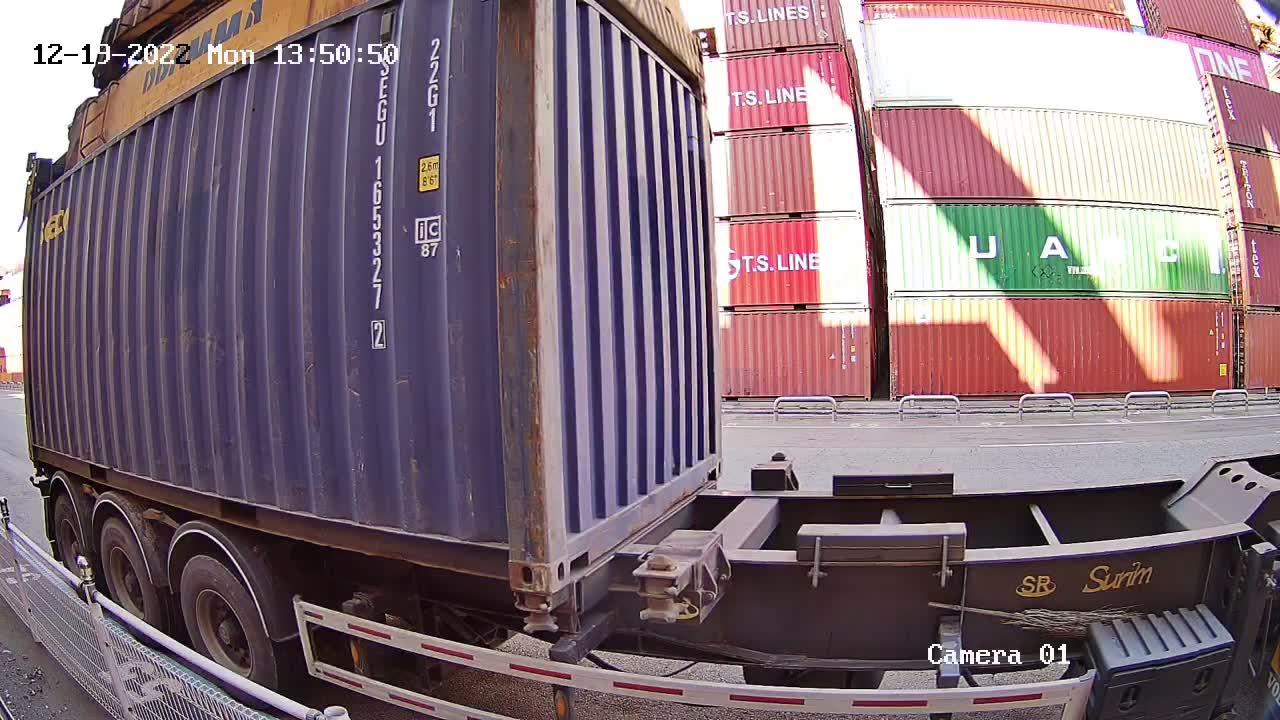Chassis: (573, 486, 715, 625)
Cone: (511, 585, 571, 634)
Hole_L: (544, 514, 592, 589)
Hole_R: (475, 527, 545, 590), (696, 435, 725, 485)
Tire: (179, 558, 273, 686), (97, 521, 161, 626), (53, 499, 87, 573)
